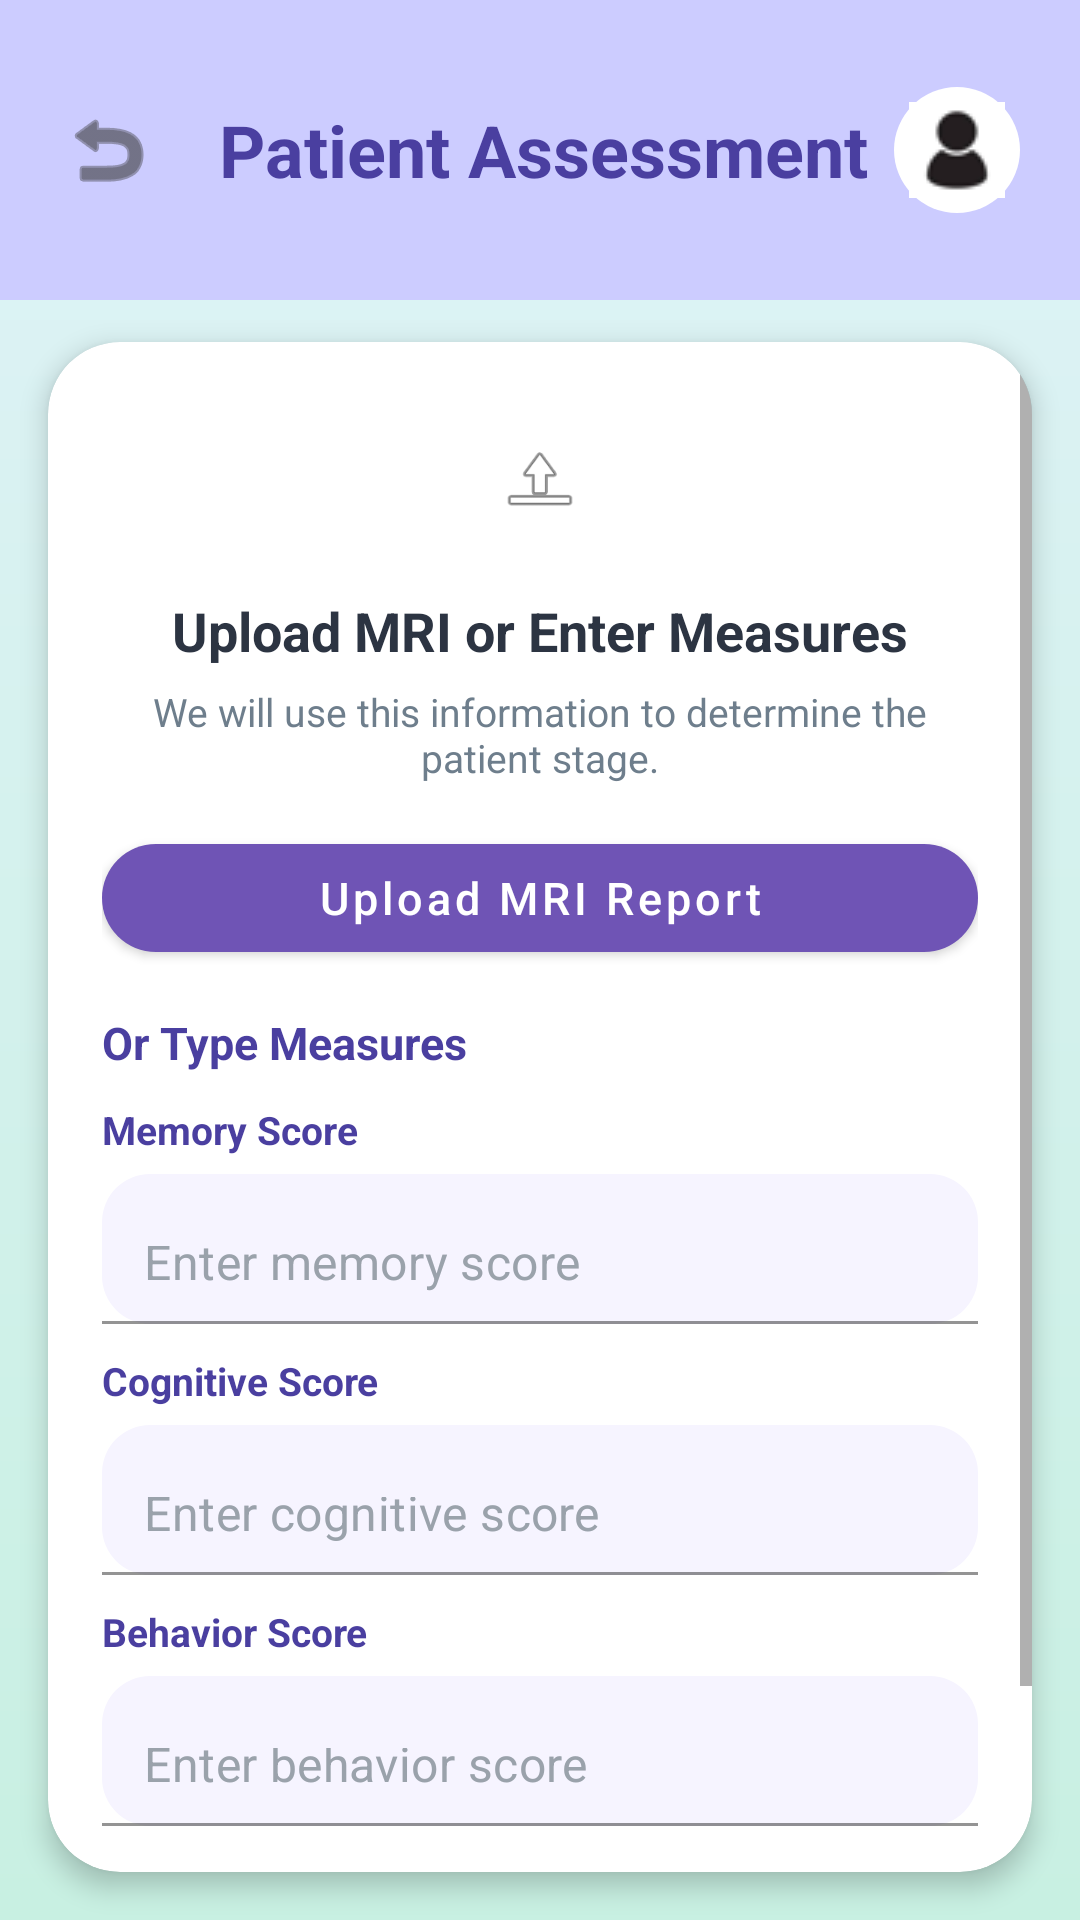

Where icons sit on this 1080px x 1920px app screen, as {"left": x1, "top": y1, "right": x2, "bottom": y2}:
Profile: {"left": 894, "top": 87, "right": 1020, "bottom": 213}
revert: {"left": 75, "top": 119, "right": 144, "bottom": 182}
